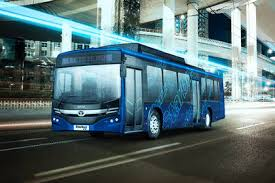bus: (51, 42, 226, 141)
